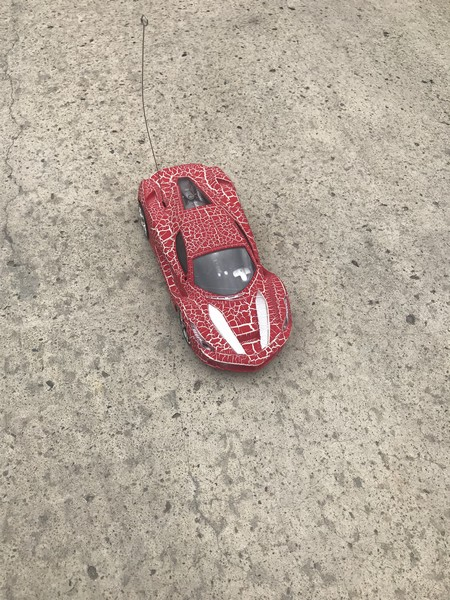RC: (136, 162, 295, 374)
